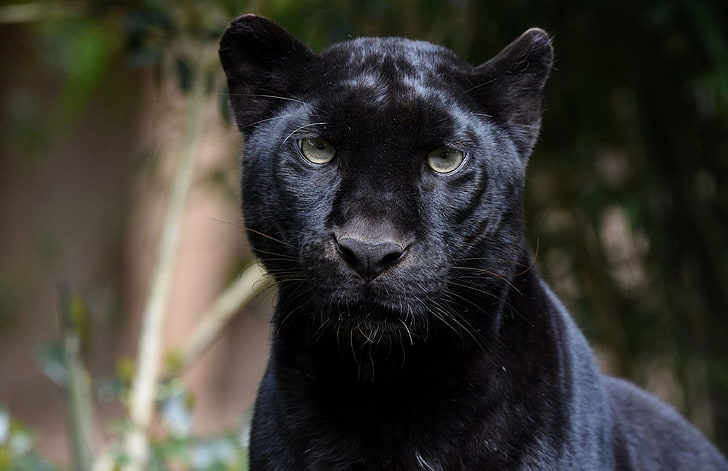panther: (186, 6, 589, 363)
